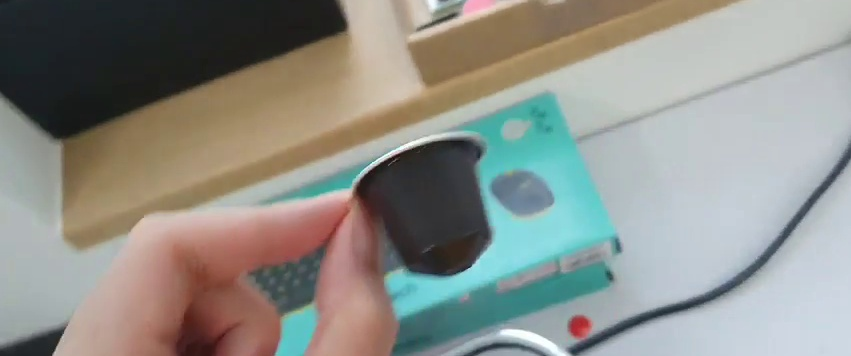capsule_4: (348, 128, 498, 280)
